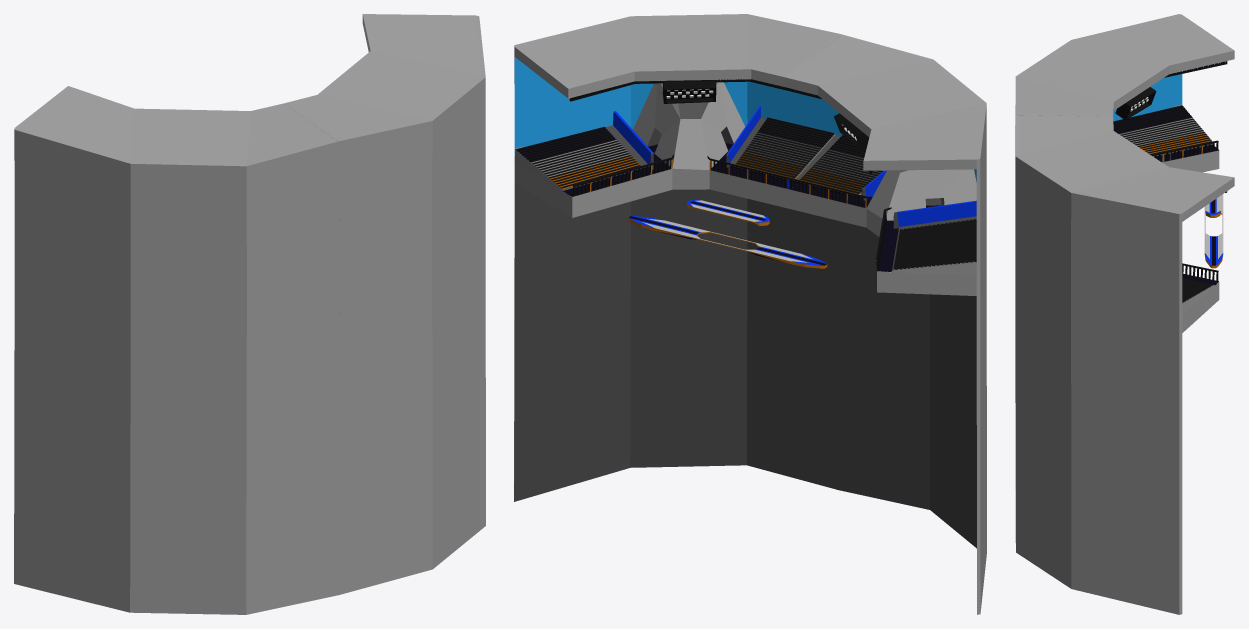
The model's file is fusfus_stadium.obj.
The picture shows the model from 3 angles, left to right: view 1: azimuth 30°, elevation 25°; view 2: azimuth 150°, elevation 25°; view 3: azimuth 270°, elevation 25°; orthographic projection. The views are drawn at different scales.
Parts seen in each view (by area): view 1: background_Cube.004; view 2: background_Cube.004, plataform_002_Cube.003, plataform_003_Cube.002, plataform_001_Cube.001; view 3: background_Cube.004, plataform_003_Cube.002.
Part boxes in pixels (x1=…): background_Cube.004: x1=14, y1=14, x2=485, y2=614; background_Cube.004: x1=514, y1=14, x2=986, y2=614; plataform_002_Cube.003: x1=745, y1=243, x2=827, y2=268; plataform_003_Cube.002: x1=628, y1=216, x2=710, y2=239; plataform_001_Cube.001: x1=687, y1=199, x2=769, y2=225; background_Cube.004: x1=1015, y1=14, x2=1234, y2=614; plataform_003_Cube.002: x1=1204, y1=233, x2=1223, y2=268.
Size of the model in its own units: 72.83 by 67.93 by 33.69.
